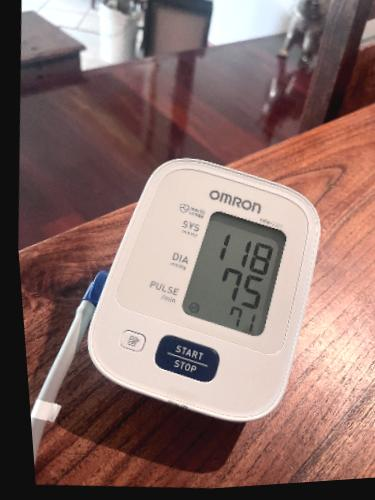bpm: (176, 207, 298, 342)
